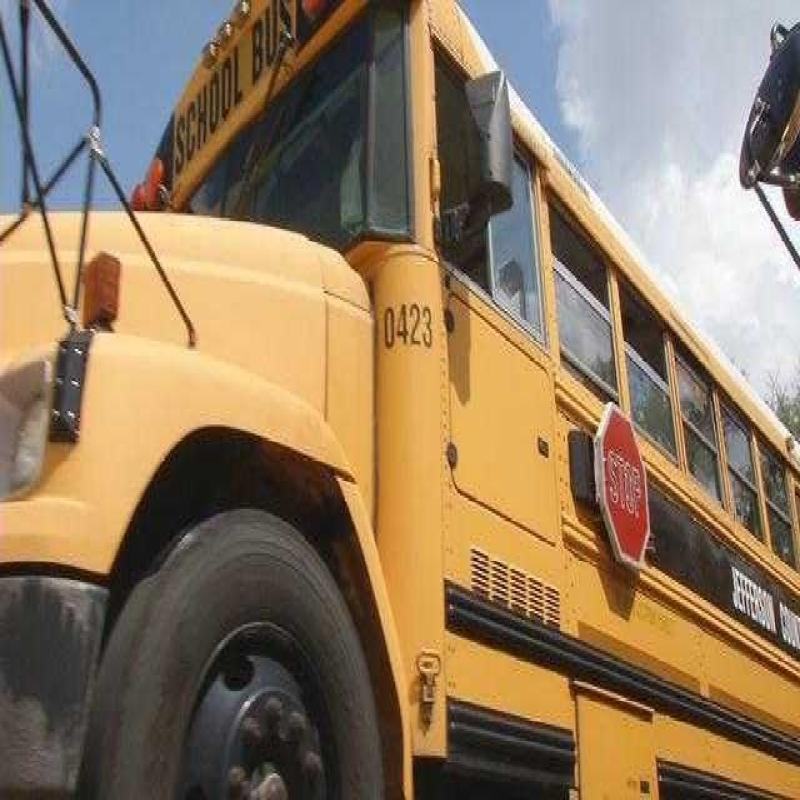bus: (38, 24, 800, 799)
